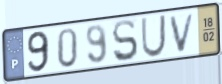0: (55, 27, 80, 69)
9: (26, 29, 51, 74), (84, 23, 109, 66)
S: (111, 18, 140, 64)
U: (140, 13, 168, 59)
V: (168, 11, 197, 54)
